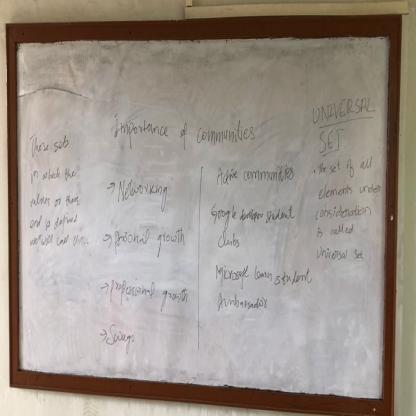Handwritten text: (110, 103, 257, 153), (209, 193, 297, 253), (109, 273, 191, 317), (113, 219, 187, 267), (213, 257, 311, 291), (215, 158, 297, 192), (310, 90, 377, 129), (117, 166, 170, 214), (25, 121, 71, 159), (315, 150, 376, 178), (218, 288, 270, 320), (24, 184, 84, 211), (23, 226, 90, 250), (317, 176, 381, 201), (28, 159, 77, 188), (312, 200, 375, 220), (106, 319, 139, 357), (315, 241, 365, 265), (27, 213, 79, 233), (314, 221, 355, 242), (317, 123, 343, 155)
Whiteboard: (7, 22, 393, 407)
